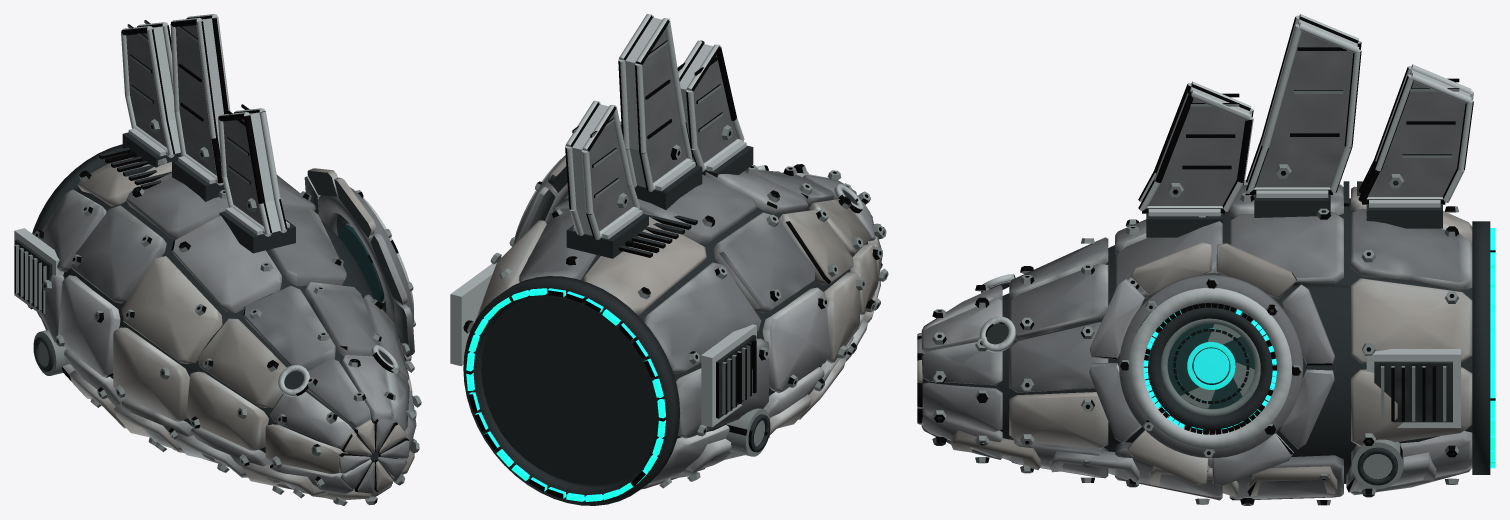
Rendered from snake_head.glb.
3 views of the same model, side by side, from view 1: azimuth 30°, elevation 25°; view 2: azimuth 150°, elevation 25°; view 3: azimuth 270°, elevation 25° (orthographic). The views are drawn at different scales.
Visible parts, largest first — view 1: Head; view 2: Head; view 3: Head.
Boxes of the visible parts, x1=… form: Head: x1=14, y1=14, x2=421, y2=505; Head: x1=450, y1=14, x2=888, y2=505; Head: x1=917, y1=14, x2=1495, y2=505.
Size of the model in its own units: 1.68 by 2.31 by 2.58.
Materials: 2 (1 with a texture image).
